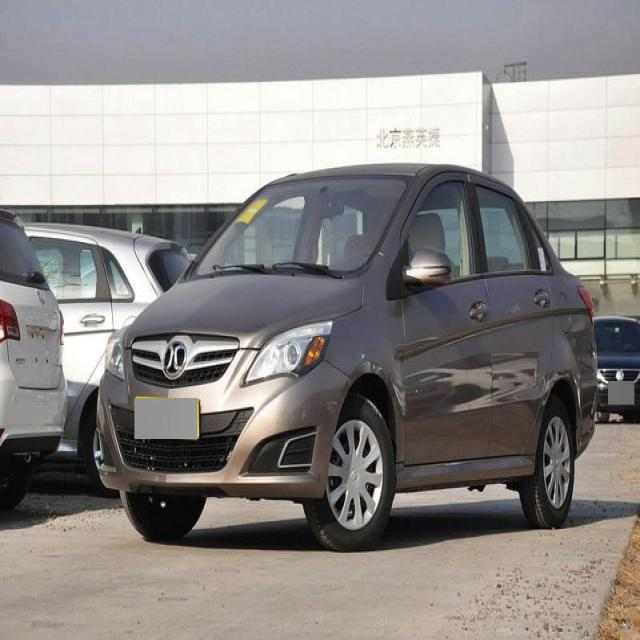back_left_side_light: (576, 282, 598, 322)
door: (472, 175, 550, 466)
front_bumper: (94, 346, 354, 500)
front_glass: (192, 173, 410, 278)
front_left_side_door: (400, 169, 494, 480)
front_left_side_light: (242, 317, 332, 386)
front_left_side_mirror: (405, 246, 451, 291)
front_right_side_light: (106, 326, 128, 381)
wheel: (310, 391, 395, 545), (526, 394, 574, 524)
